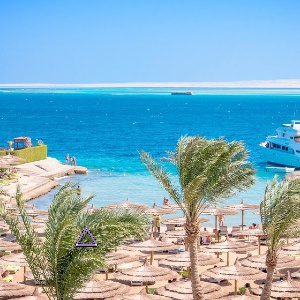triangle: (73, 223, 98, 249)
